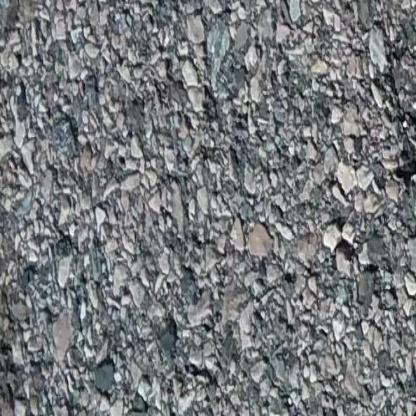Cracks: (384, 44, 416, 301), (407, 370, 416, 416)
